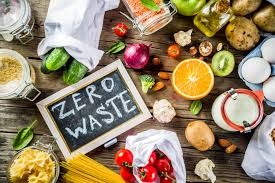glass: (1, 47, 40, 102), (1, 1, 35, 44)
kitchen_waste: (168, 56, 215, 105), (6, 144, 59, 182), (223, 15, 262, 50), (182, 118, 218, 153), (120, 41, 155, 71), (38, 39, 66, 73), (210, 48, 237, 79), (62, 54, 87, 85), (112, 144, 135, 171), (137, 72, 158, 94), (135, 163, 158, 183), (164, 42, 186, 61), (216, 137, 239, 154), (155, 156, 172, 174)
plastic: (210, 86, 267, 135), (121, 1, 174, 34), (239, 54, 272, 85)
